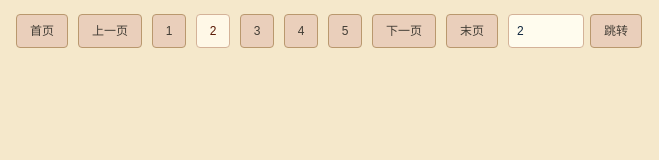
Test case: PaginationControls › restores the current page for empty or non-integer input
Clear the number field named "跳转页码". click: (546, 31)
box: [508, 14, 584, 48]
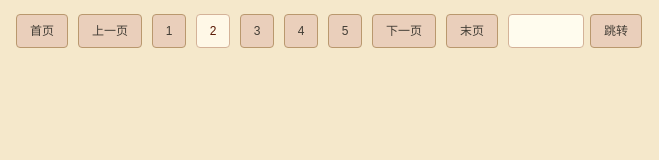
Submit the form, box [508, 14, 642, 48]
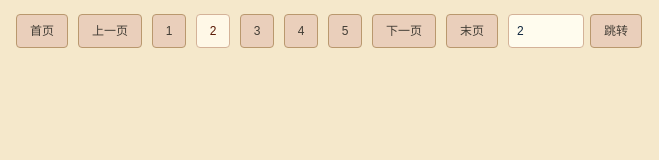
Check: the number field named "跳转页码" holds "2"
Replace the text in the number field named "跳转页码" with "2.5". click: (546, 31)
box: [508, 14, 584, 48]
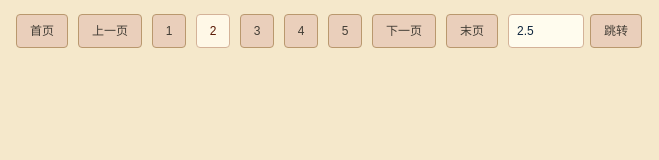
Submit the form, box [508, 14, 642, 48]
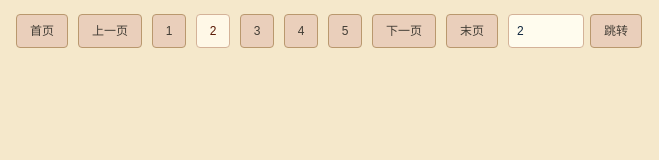
Check: the number field named "跳转页码" holds "2", box [508, 14, 584, 48]
